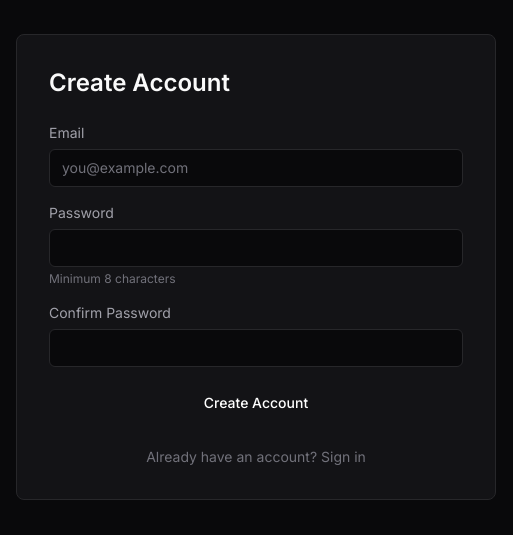
Test: SignupPage › shows error for duplicate email
Type "existing@example.com" into the field labelled "Email" at (256, 168), box x1=49 y1=149 x2=463 y2=187
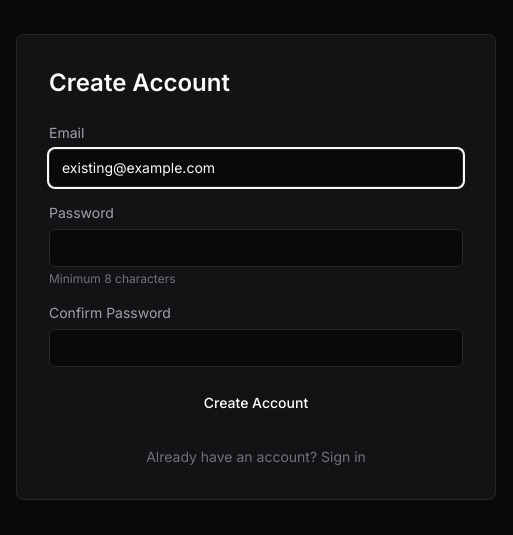
Type "securepass123" into the password field labelled "Password" at (256, 248), box x1=49 y1=229 x2=463 y2=267
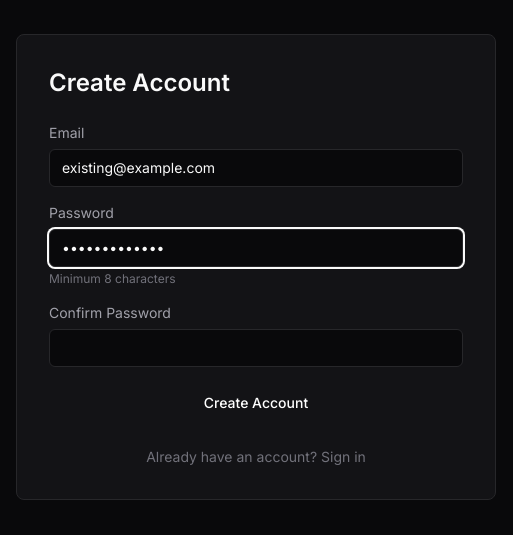
Type "securepass123" into the password field labelled "Confirm Password" at (256, 348), box x1=49 y1=329 x2=463 y2=367
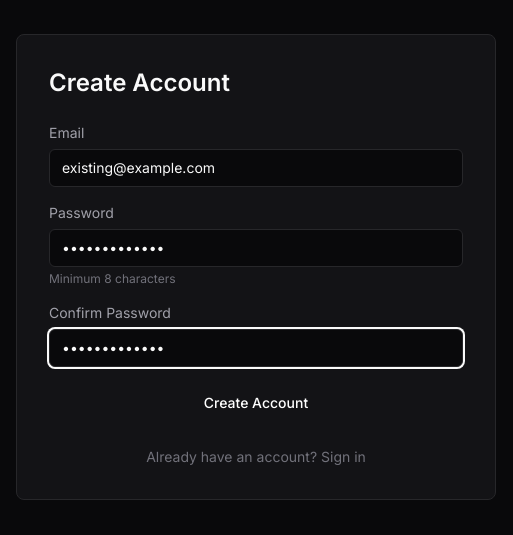
Click the button "Create Account" at (256, 403), box x1=49 y1=383 x2=463 y2=423
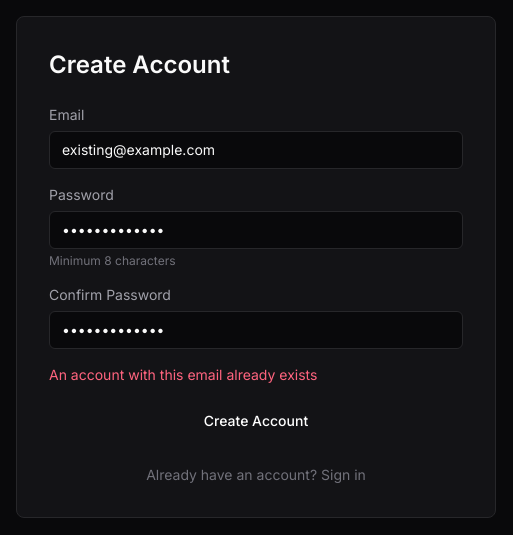
Expected: the text "An account with this email already exists" is shown, x1=49 y1=366 x2=317 y2=383
